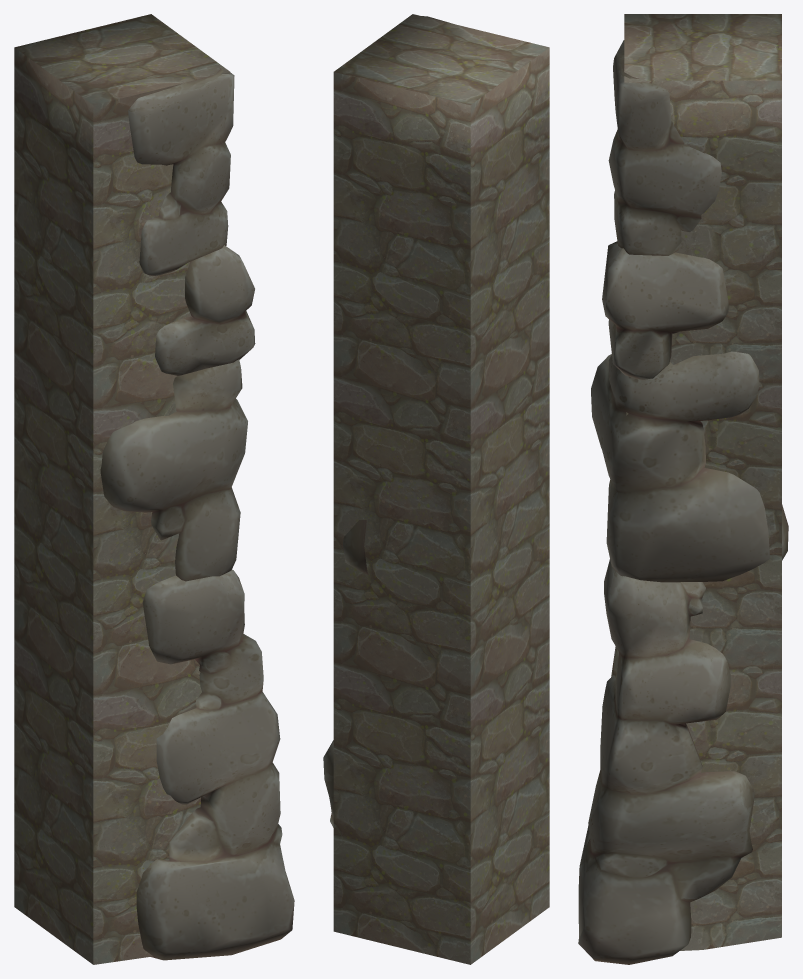
The model's file is SM_FW01_Ruins_Wall_Corner_Mid_Bot_01.fbx.
The picture shows the model from 3 angles, left to right: view 1: azimuth 30°, elevation 25°; view 2: azimuth 150°, elevation 25°; view 3: azimuth 270°, elevation 25°; orthographic projection.
Parts seen in each view (by area): view 1: SM_FW01_Ruins_Wall_Corner_Mid_Bot_01, SM_FW01_Ruins_Wall_Corner_Mid_Bot_01_LOD0; view 2: SM_FW01_Ruins_Wall_Corner_Mid_Bot_01, SM_FW01_Ruins_Wall_Corner_Mid_Bot_01_LOD0; view 3: SM_FW01_Ruins_Wall_Corner_Mid_Bot_01_LOD0, SM_FW01_Ruins_Wall_Corner_Mid_Bot_01.
Part boxes in pixels (<box>): SM_FW01_Ruins_Wall_Corner_Mid_Bot_01: <box>14,14,230,964</box>; SM_FW01_Ruins_Wall_Corner_Mid_Bot_01_LOD0: <box>100,68,294,960</box>; SM_FW01_Ruins_Wall_Corner_Mid_Bot_01: <box>333,14,549,964</box>; SM_FW01_Ruins_Wall_Corner_Mid_Bot_01_LOD0: <box>323,16,450,827</box>; SM_FW01_Ruins_Wall_Corner_Mid_Bot_01_LOD0: <box>578,40,788,964</box>; SM_FW01_Ruins_Wall_Corner_Mid_Bot_01: <box>611,14,781,950</box>.
Size of what is drawn, in the model's own units: 1.4 by 6.09 by 1.33.
